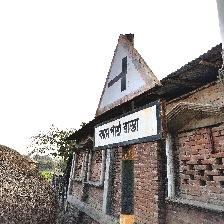Side-road-left: (91, 34, 163, 150)
